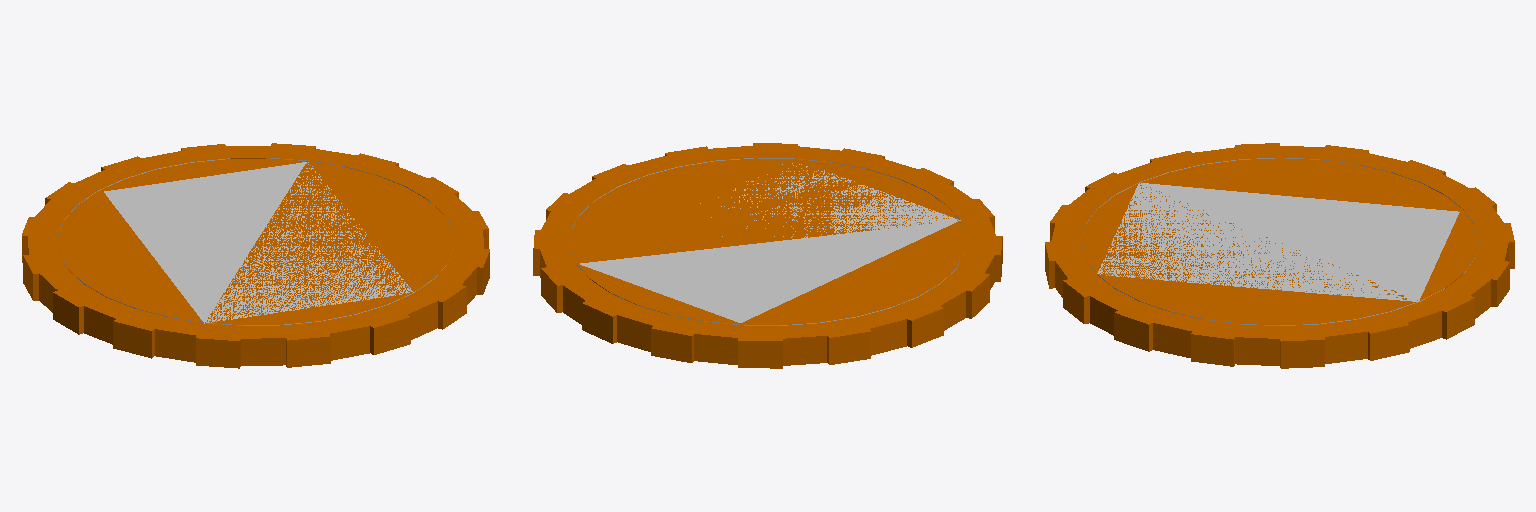
Rendered from hamstercoin.obj.
3 renders of one model, left to right at view 1: azimuth 30°, elevation 25°; view 2: azimuth 150°, elevation 25°; view 3: azimuth 270°, elevation 25°, orthographic.
Parts seen in each view (by area): view 1: Circle; view 2: Circle; view 3: Circle.
Part boxes in pixels (x1,y1,x2,y2): Circle: (22,143,489,368); Circle: (533,143,1002,368); Circle: (1045,143,1514,368).
Size of the model in its own units: 2.37 by 0.161 by 2.37.